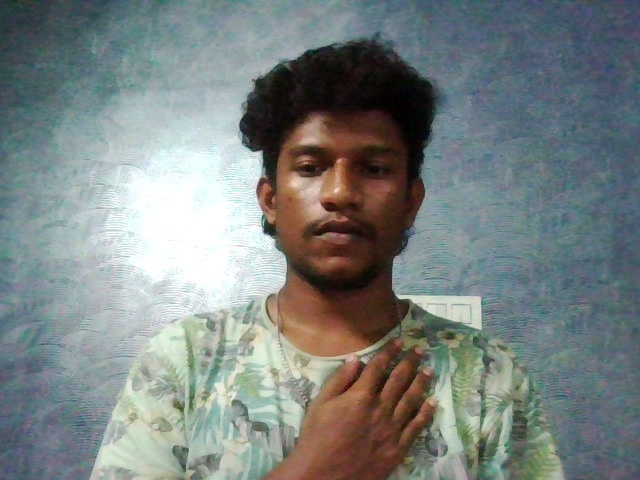please: (259, 322, 493, 480)
